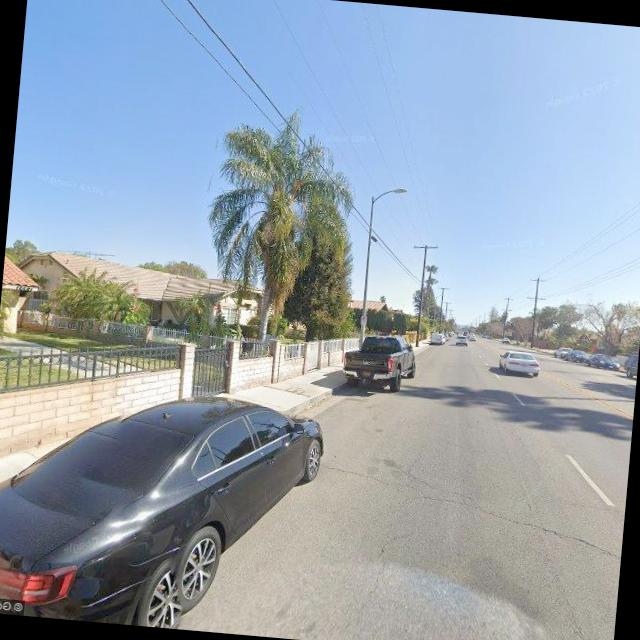crack: (318, 464, 626, 558)
